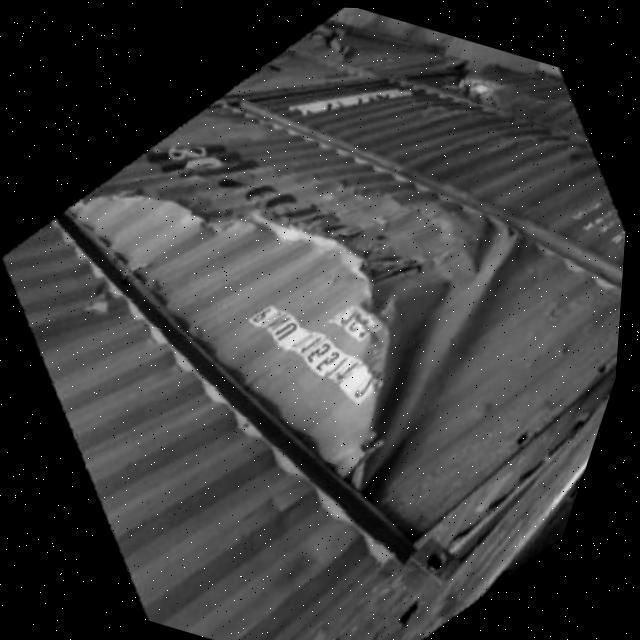dent: (295, 170, 538, 516), (74, 110, 418, 297)
